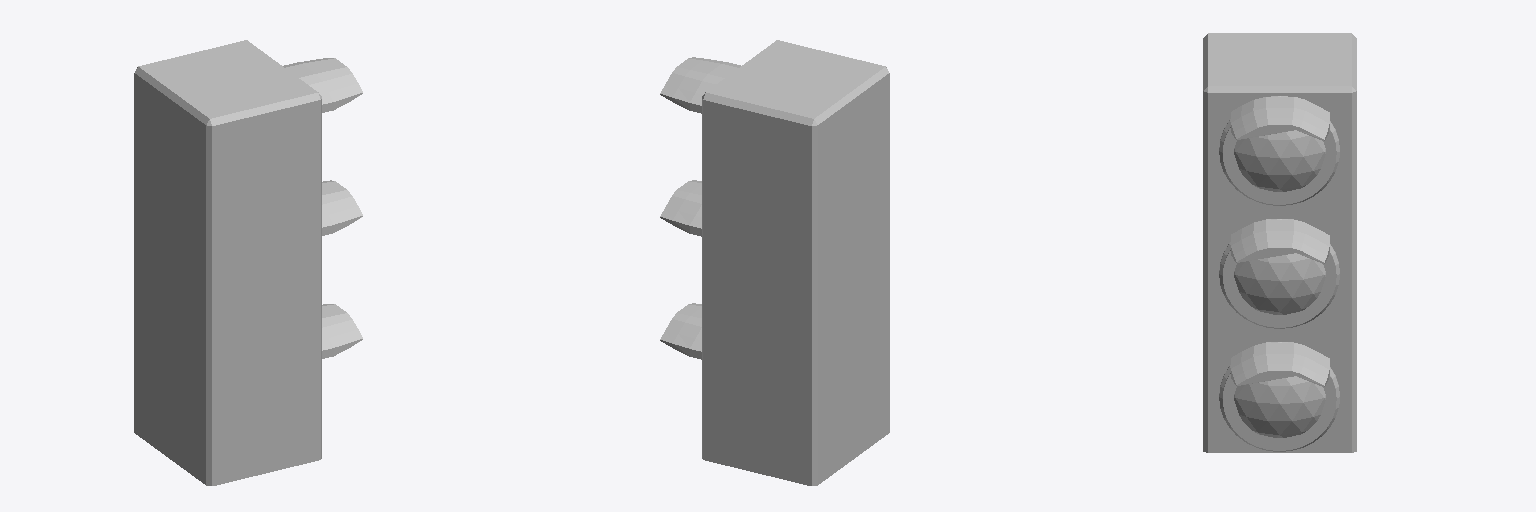
File: trafficLight.obj
The picture shows the model from 3 angles: view 1: azimuth 30°, elevation 25°; view 2: azimuth 150°, elevation 25°; view 3: azimuth 270°, elevation 25°; orthographic projection.
Size of the model in its own units: 1.15 by 2.34 by 0.8873.